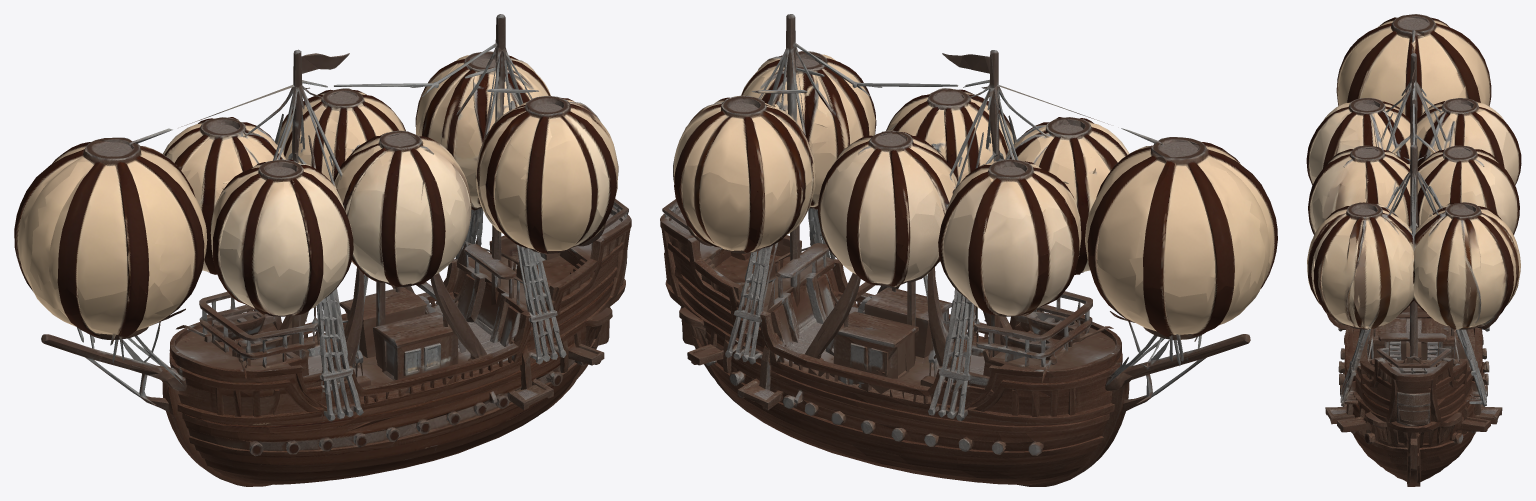
The picture shows the model from 3 angles, left to right: view 1: azimuth 30°, elevation 25°; view 2: azimuth 150°, elevation 25°; view 3: azimuth 270°, elevation 25°; orthographic projection. The views are drawn at different scales.
Visible parts, largest first — view 1: Mesh_0; view 2: Mesh_0; view 3: Mesh_0.
Boxes of the visible parts, x1,y1,x2,y2 form: Mesh_0: (14,14,631,486); Mesh_0: (660,14,1277,486); Mesh_0: (1306,14,1521,486).
Bounding box in the file's own units: 1.9 × 1.3 × 0.7362.
1 material, 1 textured.
